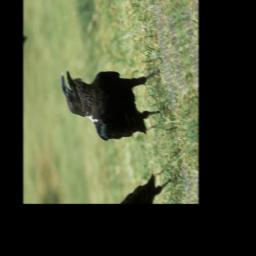Crow: (57, 21, 172, 174)
